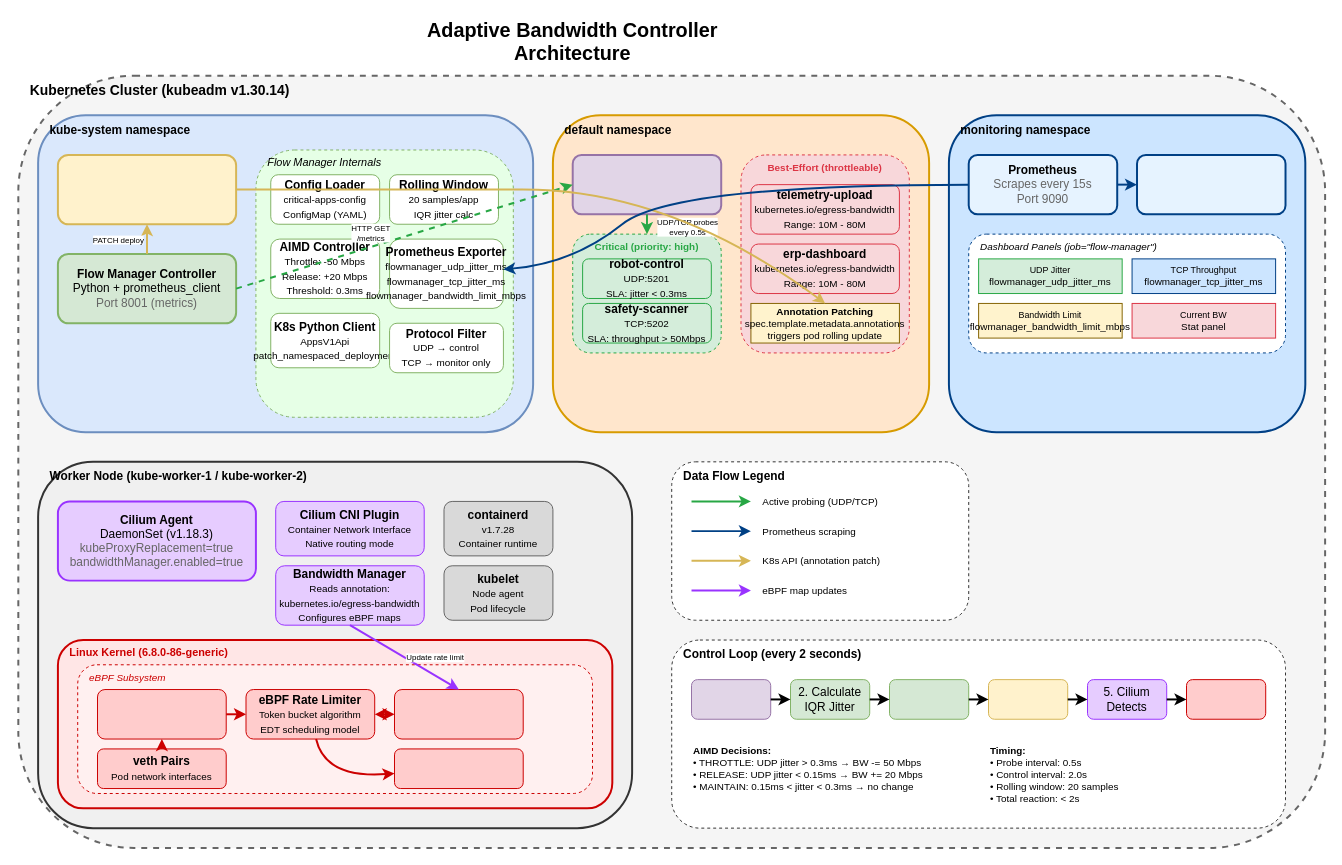
The diagram is 1342 pixels wide and 865 high, and some of its shapes have lost their labels. The box of each missing label's shape, as (x1, y1, x2, y2) in pixels:
1. Probe: (691, 679, 771, 719)
3. AIMD Decision: (889, 679, 969, 719)
4. Patch Annotation: (988, 679, 1068, 719)
6. eBPF Enforces: (1186, 679, 1266, 719)
eBPF Maps bandwidth_limits per-pod rate config: (394, 689, 523, 739)
Grafana Dashboard visualization Port 3000: (1136, 153, 1286, 215)
Kubernetes API Server kube-apiserver Deployment CRUD: (56, 153, 237, 225)
Network Probe Python + socket Port 9090 (metrics): (571, 153, 722, 215)
Physical NIC (eth0) Virtio network device: (394, 748, 523, 789)
TC Egress Hook Traffic Control hook point Intercepts outgoing packets: (97, 689, 226, 739)
